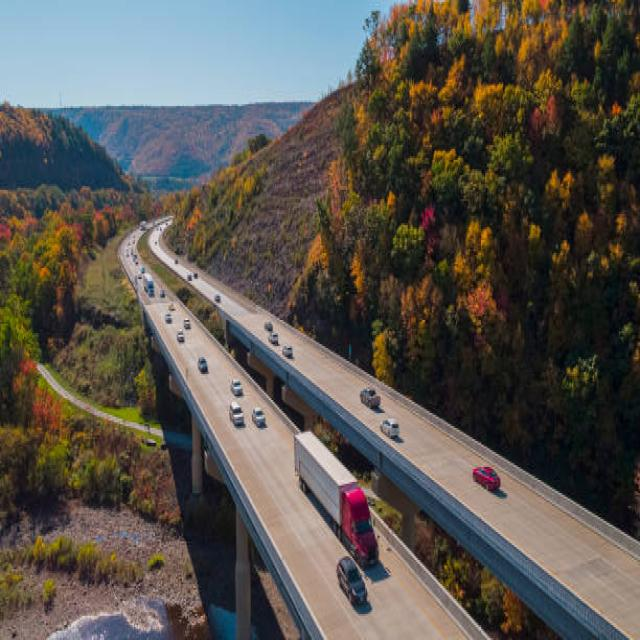16-Wheelers: (292, 428, 378, 567)
Car: (336, 554, 367, 606), (472, 465, 500, 491), (360, 387, 380, 407), (379, 417, 398, 437), (251, 406, 266, 426), (197, 355, 207, 372), (282, 344, 292, 357)
